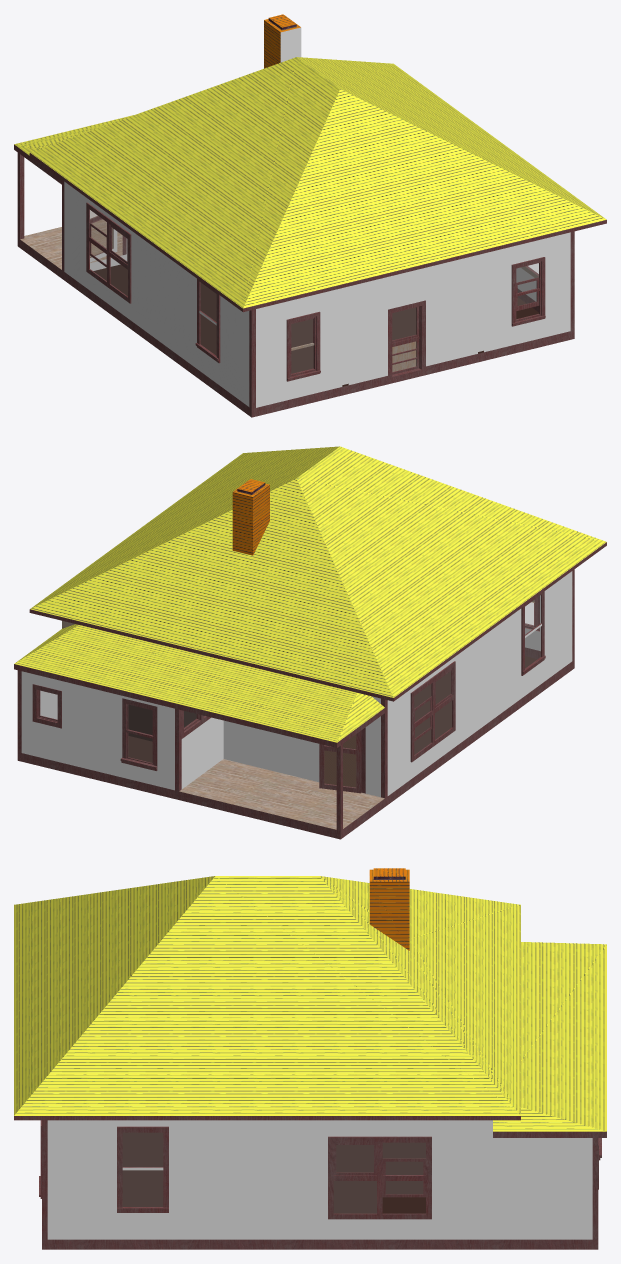
File: Casa abuelita.fbx
3 renders of one model, top to bottom at view 1: azimuth 30°, elevation 25°; view 2: azimuth 150°, elevation 25°; view 3: azimuth 270°, elevation 25°, orthographic. The views are drawn at different scales.
Parts seen in each view (by area): view 1: Model; view 2: Model; view 3: Model.
Part boxes in pixels (x1,y1,x2,y2): Model: (14,14,606,417); Model: (14,446,606,839); Model: (14,868,606,1249).
Size of the model in its own units: 346 by 224 by 411.
